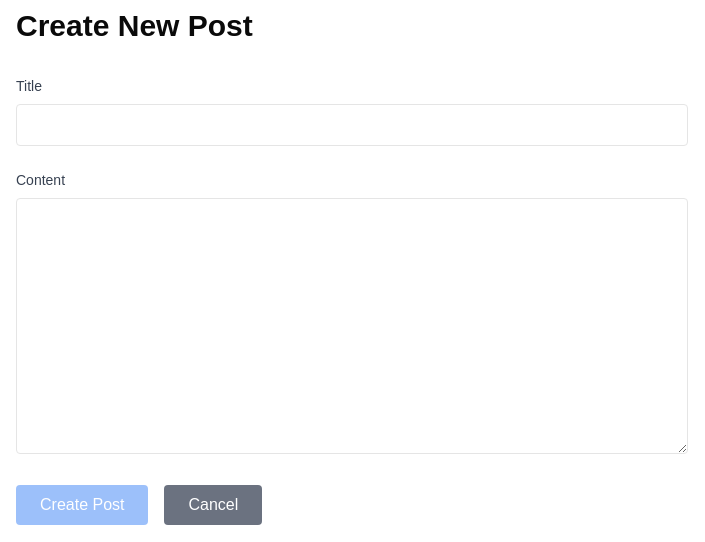
CreatePost › enables submit button when form is valid
Check: the button "Create Post" is disabled, box [16,485,148,525]
Note: Fill in valid form data
Type "Test Title" into the field labelled "Title" at (352, 125), box [16,104,688,146]
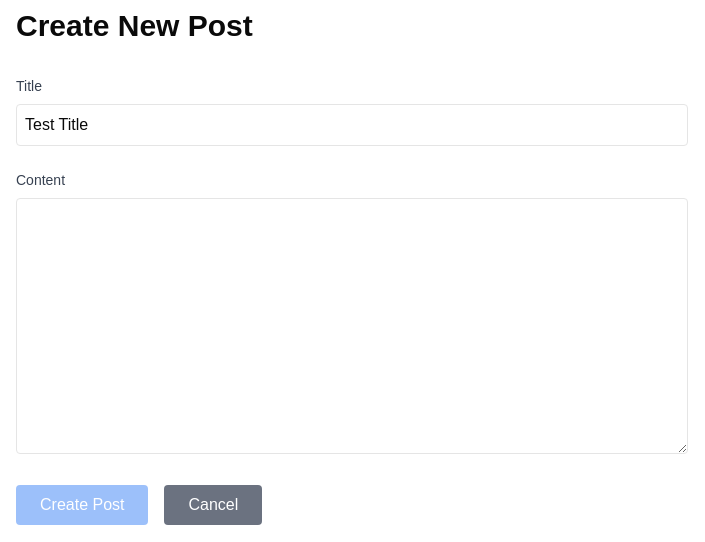
Type "Test Content Long Enough" into the text box labelled "Content" at (352, 326), box [16,198,688,454]
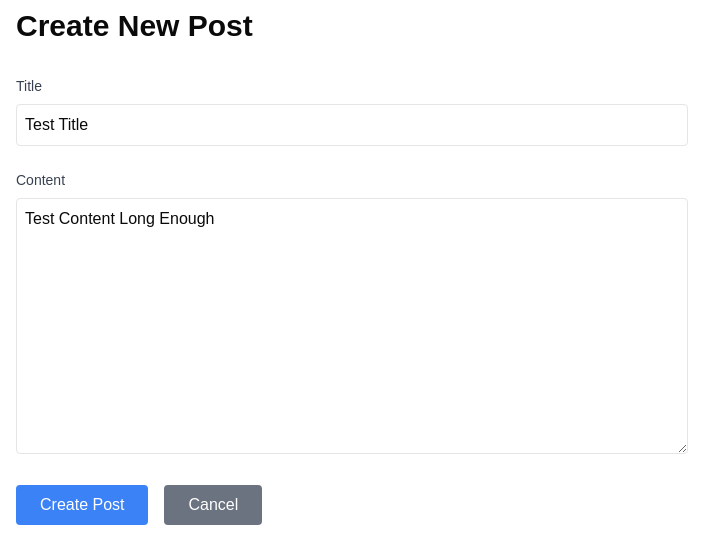
Check: the button "Create Post" is enabled, box [16,485,148,525]
